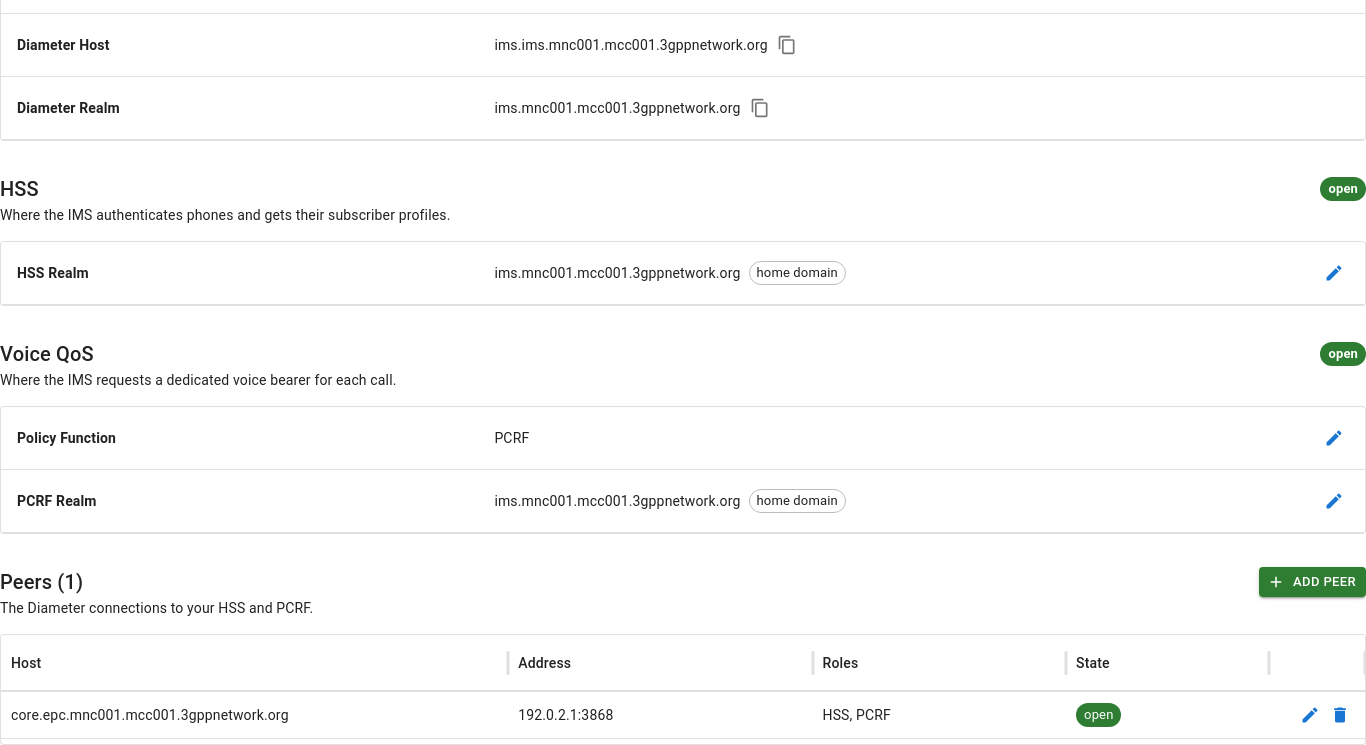
Test case: Cores › deletes a peer
The image size is (1366, 745).
(page scrolled)
Click the button named "Delete core.epc.mnc001.mcc001.3gppnetwork.org" at {"x": 1340, "y": 715}, box [1325, 700, 1355, 730]
(page scrolled)
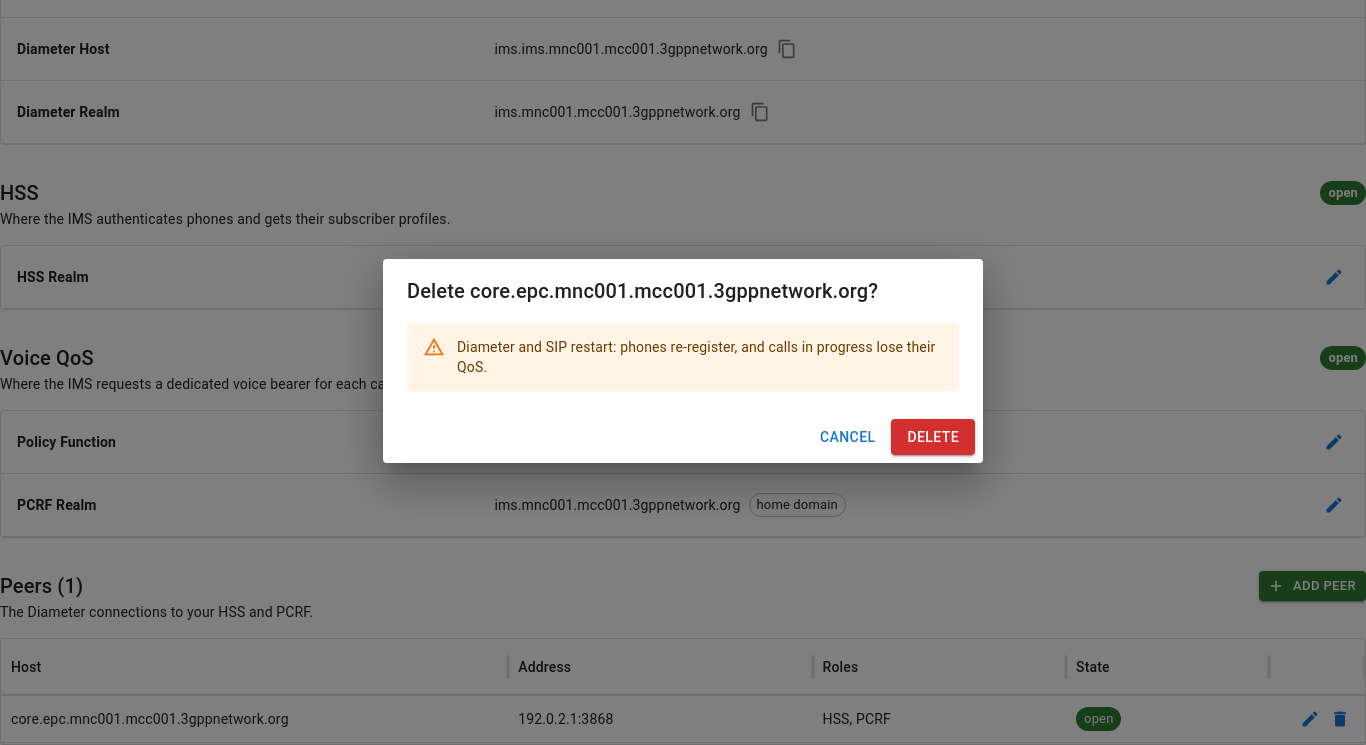
Click the button "Delete" at {"x": 933, "y": 437}, box [892, 419, 975, 455]
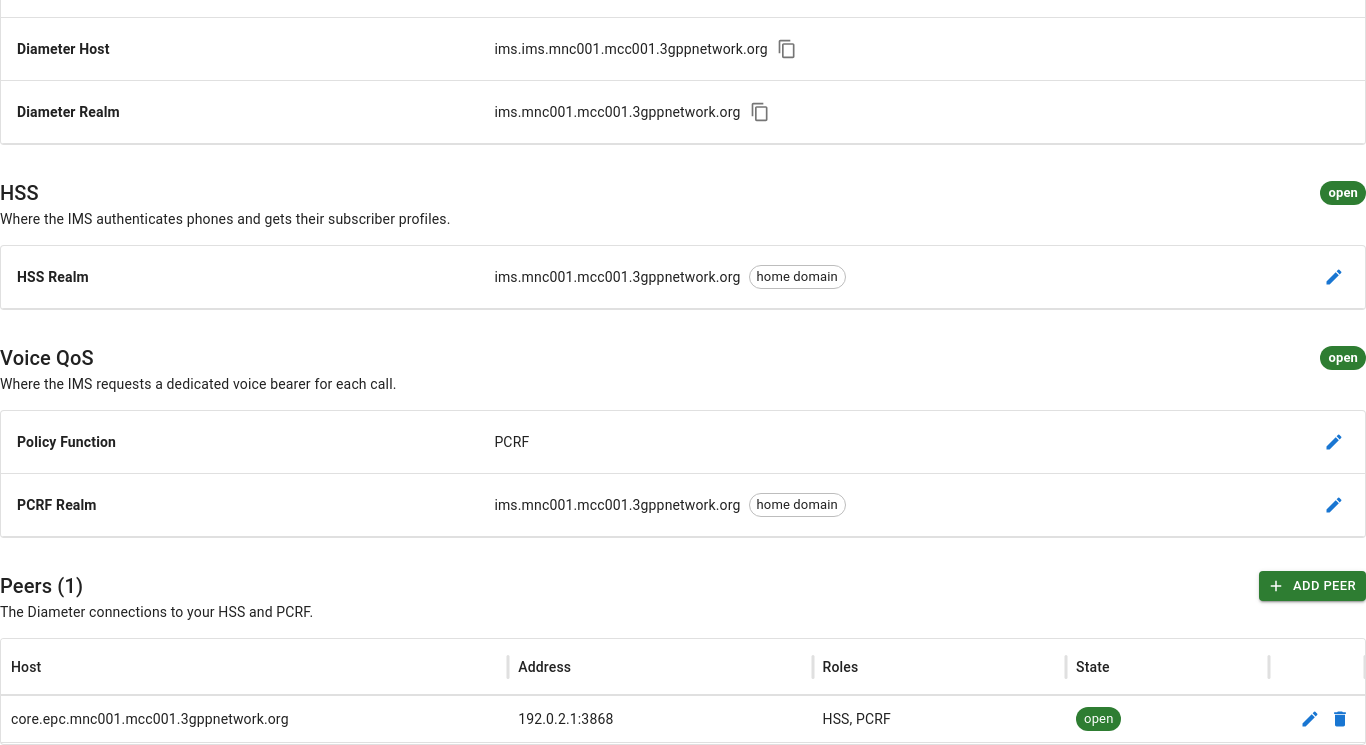
Expected: the dialog is gone
